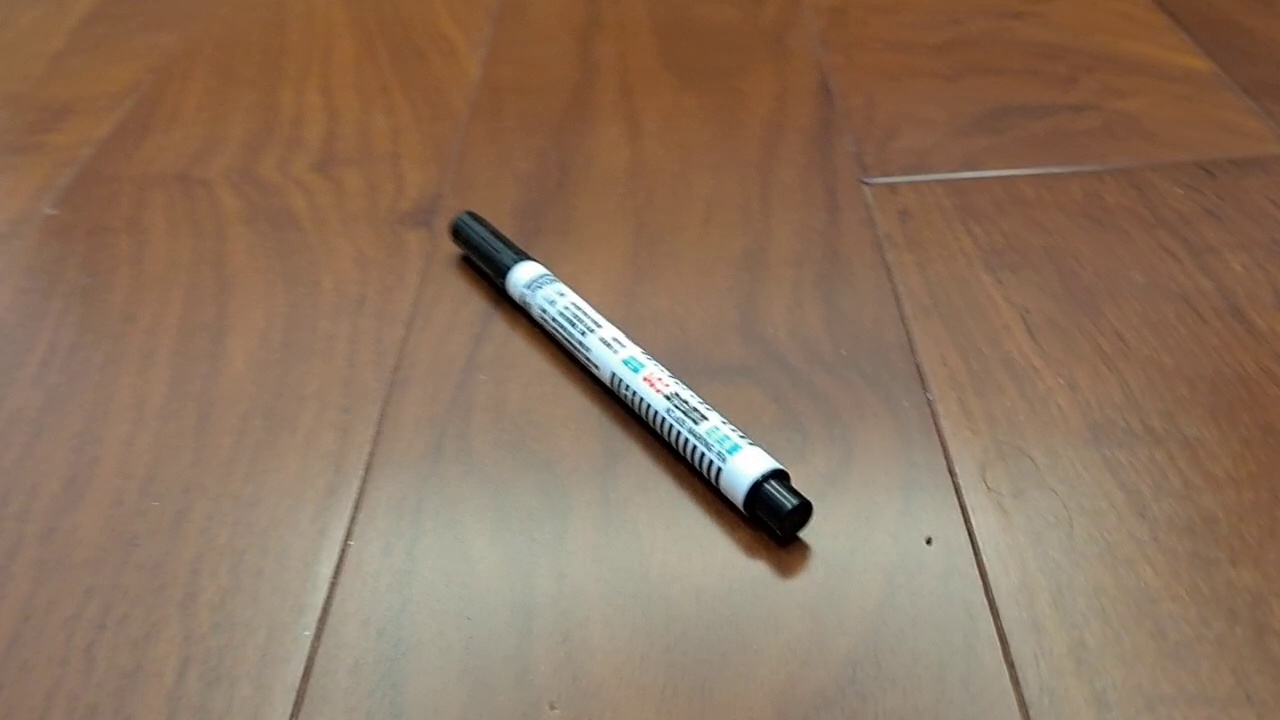pen: (448, 209, 814, 537)
